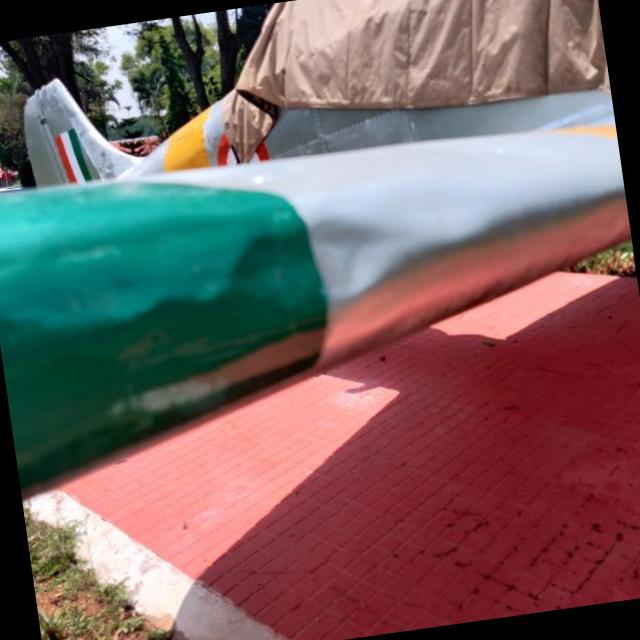Dent: (281, 188, 440, 321)
